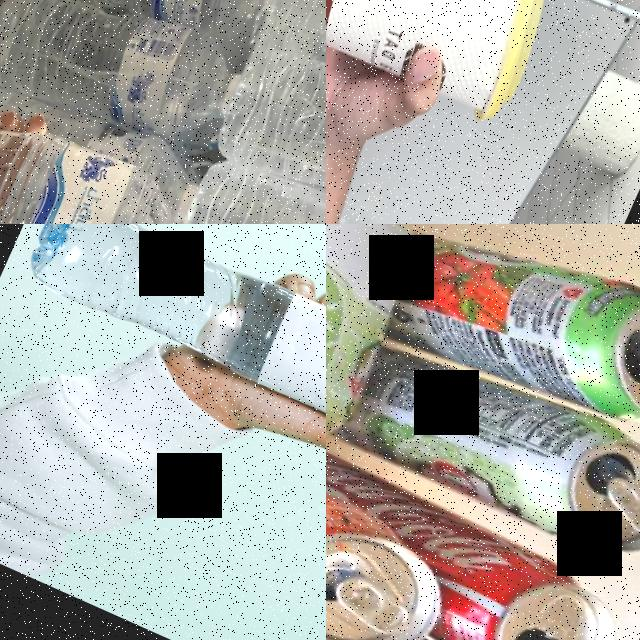bottle: (9, 224, 326, 515), (0, 43, 217, 224)
can: (326, 323, 640, 583), (326, 413, 636, 640), (370, 224, 640, 466), (326, 365, 464, 640), (326, 224, 437, 459), (326, 527, 544, 640)
cup: (326, 0, 574, 131)
